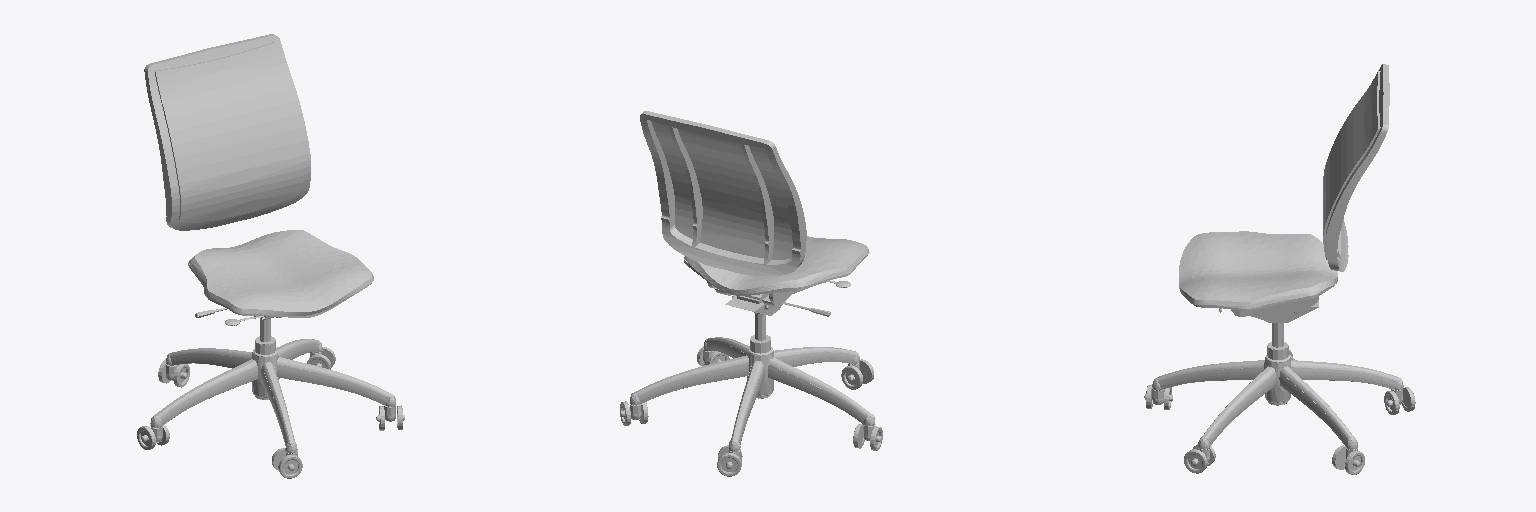
The model's file is chairBrownSeat.obj.
3 views of the same model, side by side, from view 1: azimuth 30°, elevation 25°; view 2: azimuth 150°, elevation 25°; view 3: azimuth 270°, elevation 25° (orthographic).
Parts seen in each view (by area): view 1: SeatBack_notUVed, Seat_notUVed, Legs, Wheels, Mechanisms; view 2: SeatBack_notUVed, Legs, Seat_notUVed, Wheels, Mechanisms; view 3: Seat_notUVed, Legs, SeatBack_notUVed, Wheels, Mechanisms.
Boxes of the visible parts, box(x1,y1,x2,y2) form: SeatBack_notUVed: box(144, 34, 310, 230); Seat_notUVed: box(189, 230, 373, 315); Legs: box(150, 318, 395, 456); Wheels: box(137, 347, 404, 478); Mechanisms: box(188, 259, 371, 325); SeatBack_notUVed: box(640, 111, 806, 275); Legs: box(630, 313, 875, 458); Seat_notUVed: box(684, 236, 869, 293); Wheels: box(620, 346, 882, 476); Mechanisms: box(684, 255, 867, 316); Seat_notUVed: box(1179, 231, 1337, 308); Legs: box(1152, 323, 1403, 463); SeatBack_notUVed: box(1323, 64, 1389, 271); Wheels: box(1144, 350, 1415, 474); Mechanisms: box(1189, 285, 1334, 322).
Size of the model in its own units: 2.44 by 3.42 by 2.52.